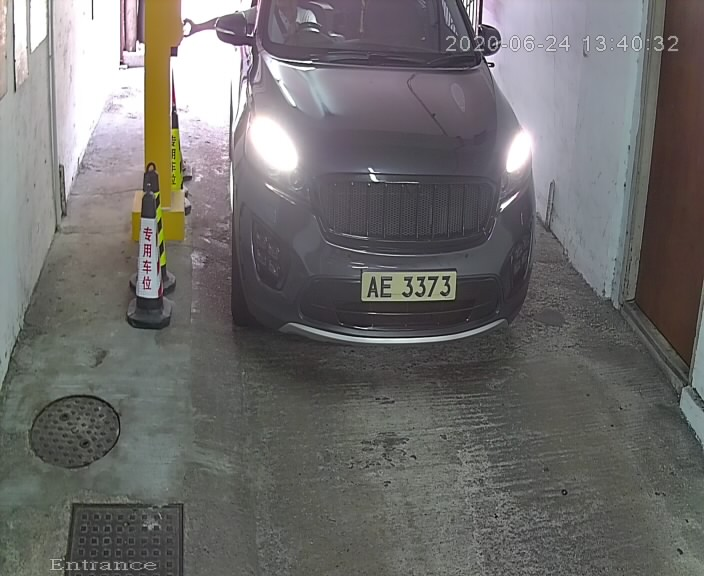Car: (213, 1, 566, 395)
License Plate: (350, 266, 466, 311)
